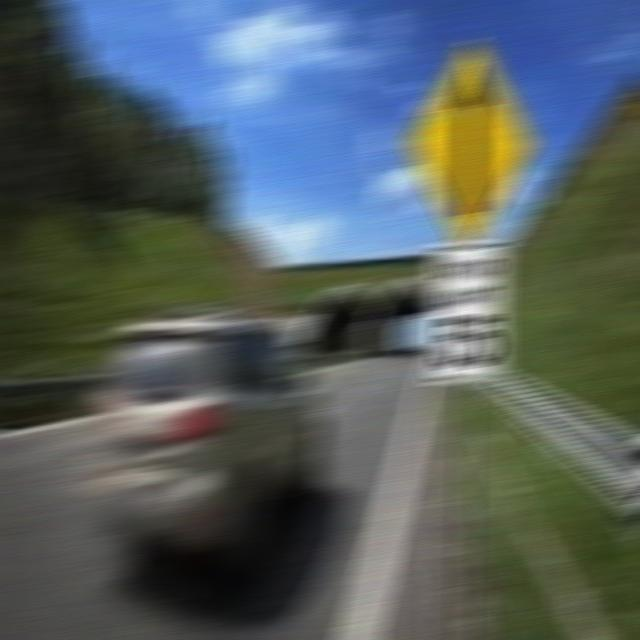speedLimit55: (431, 242, 503, 386)
